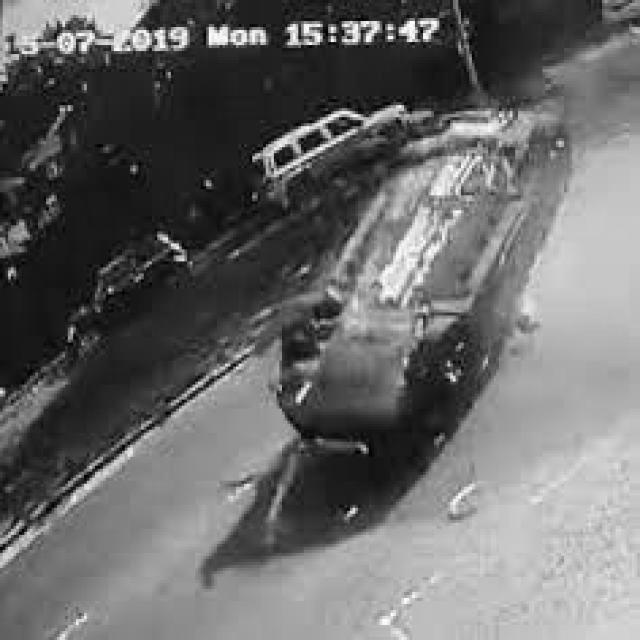accident: (264, 94, 579, 445)
vehicle: (61, 230, 197, 362), (248, 100, 412, 209)
